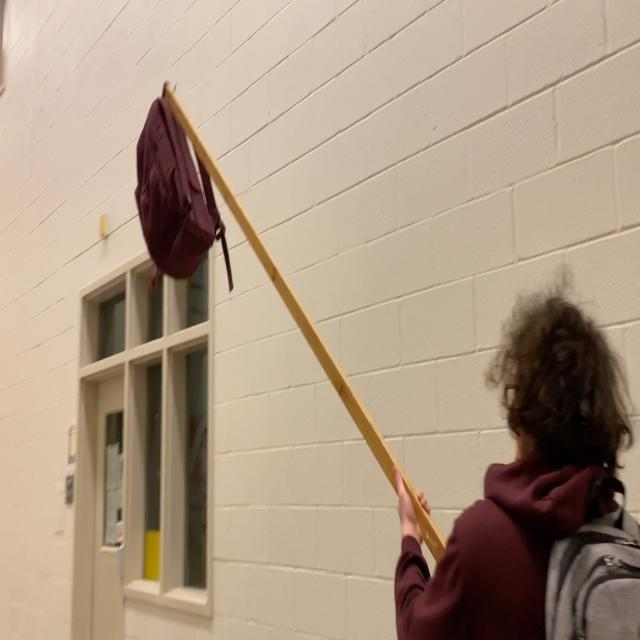Backpacks: (136, 95, 217, 282)
